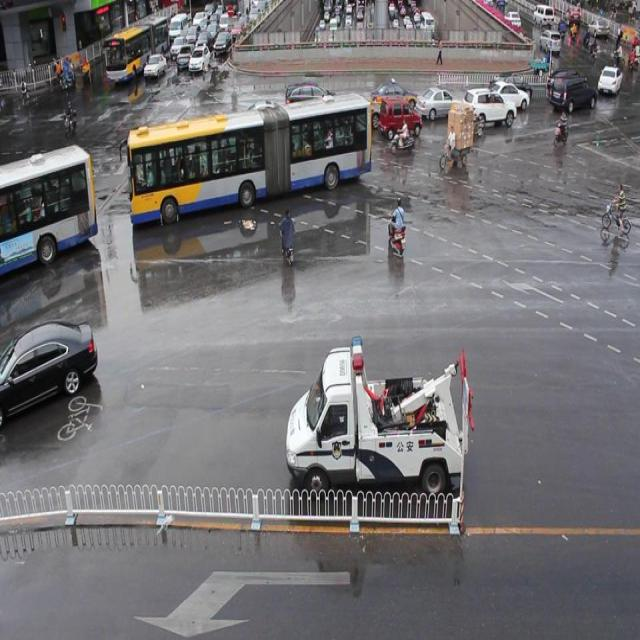bus: (285, 338, 464, 498)
car: (1, 319, 98, 419), (462, 87, 515, 128), (378, 98, 422, 136), (415, 87, 460, 119), (487, 80, 528, 112), (370, 82, 417, 109), (488, 71, 530, 98)
van: (130, 91, 369, 222)
